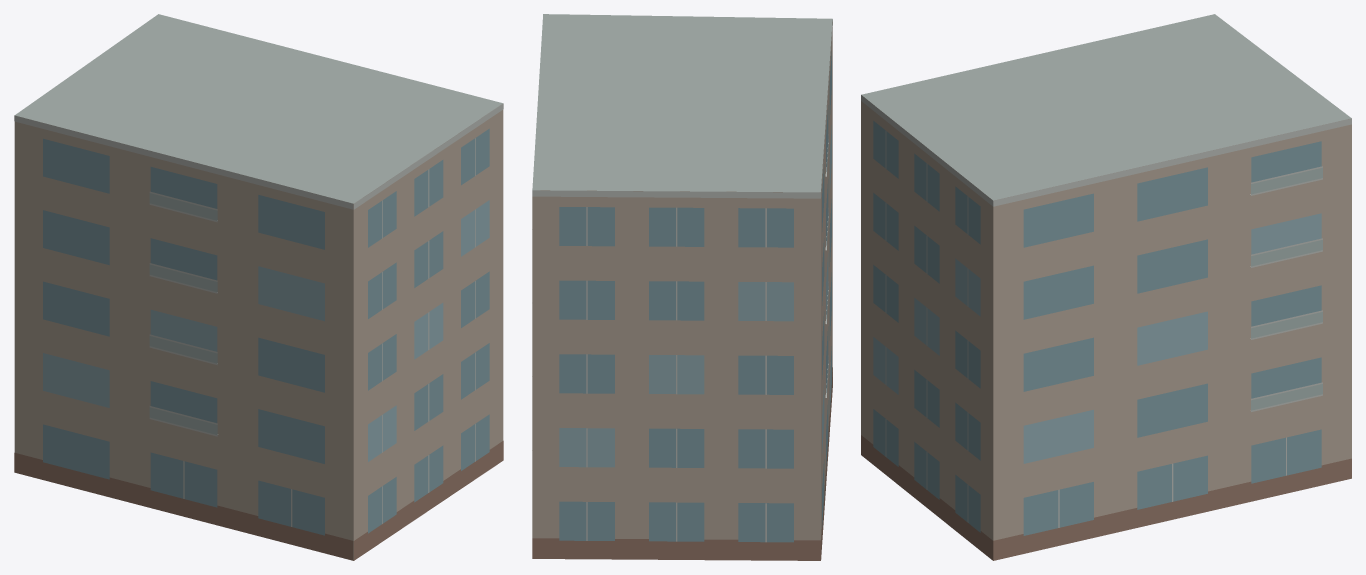
The model's file is survey-upis-33018527.glb.
3 renders of one model, left to right at view 1: azimuth 30°, elevation 25°; view 2: azimuth 150°, elevation 25°; view 3: azimuth 270°, elevation 25°, orthographic. The views are drawn at different scales.
Parts seen in each view (by area): view 1: survey-upis-33018527.tmp; view 2: survey-upis-33018527.tmp; view 3: survey-upis-33018527.tmp.
Boxes of the visible parts, <box> form: survey-upis-33018527.tmp: <box>14,14,503,560</box>; survey-upis-33018527.tmp: <box>532,14,832,560</box>; survey-upis-33018527.tmp: <box>861,14,1351,560</box>.
Size of the model in its own units: 15.89 by 14.3 by 17.66.
